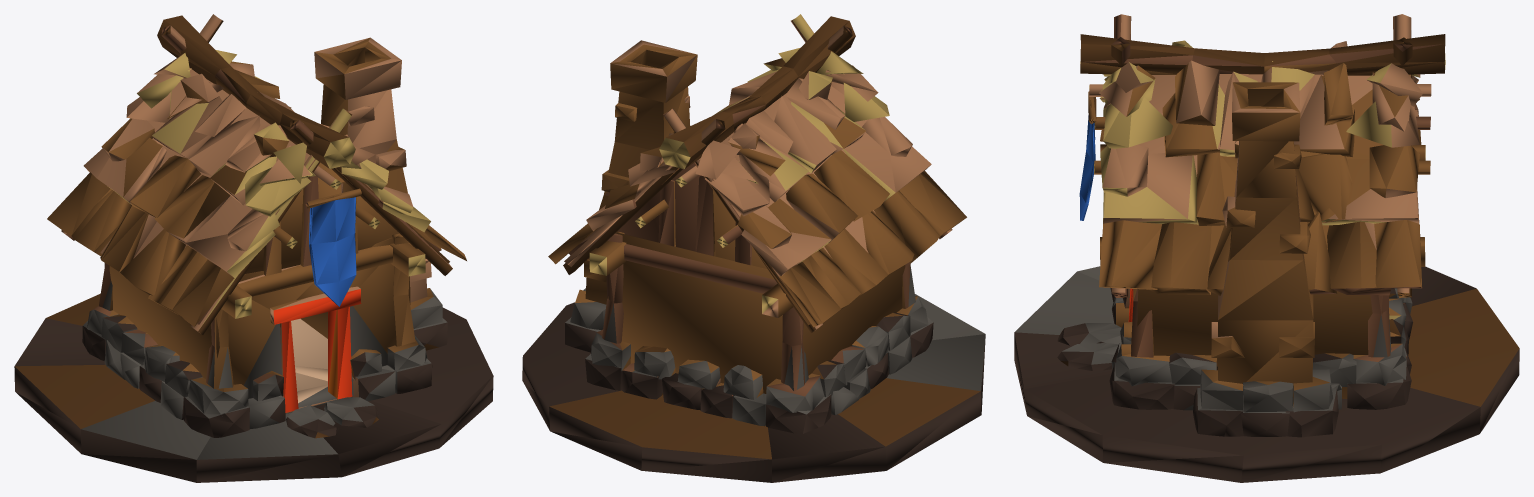
The model's file is building.fire_lodge.glb.
3 views of the same model, side by side, from view 1: azimuth 30°, elevation 25°; view 2: azimuth 150°, elevation 25°; view 3: azimuth 270°, elevation 25° (orthographic). The views are drawn at different scales.
Visible parts, largest first — view 1: asset; view 2: asset; view 3: asset.
Part boxes in pixels (x1,y1,x2,y2): asset: (14, 14, 493, 482); asset: (522, 14, 985, 482); asset: (1014, 14, 1519, 482).
Bounding box in the file's own units: 2.9 × 2.22 × 2.89.
